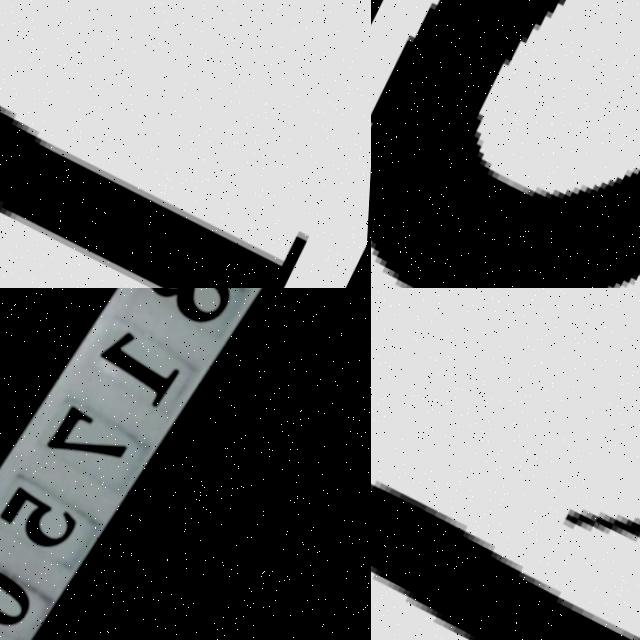0: (0, 537, 56, 640)
1: (79, 305, 197, 409)
2: (371, 0, 640, 288)
5: (0, 463, 96, 560)
7: (29, 382, 150, 489)
8: (123, 288, 252, 335)
S: (371, 288, 640, 640)
Y: (0, 0, 347, 288)
